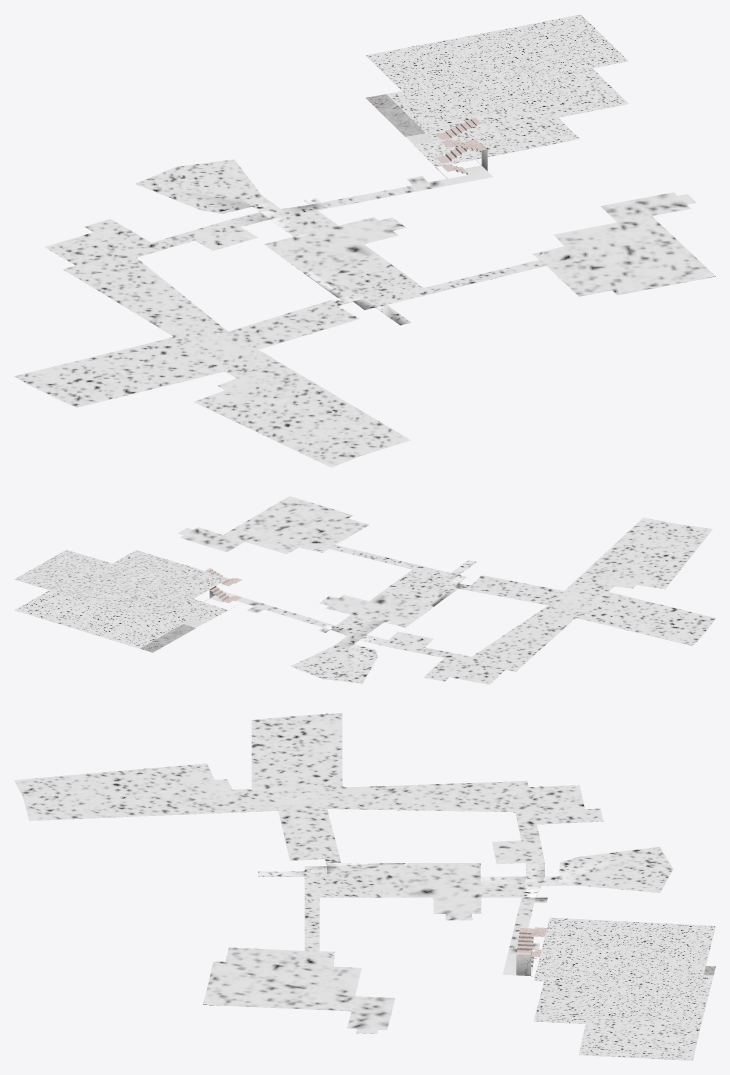
File: School floor.fbx
3 views of the same model, one above another, from view 1: azimuth 30°, elevation 25°; view 2: azimuth 150°, elevation 25°; view 3: azimuth 270°, elevation 25° (orthographic). The views are drawn at different scales.
Visible parts, largest first — view 1: School Floor; view 2: School Floor; view 3: School Floor.
Part boxes in pixels (x1,y1,x2,y2): School Floor: (14,14,715,467); School Floor: (14,496,715,684); School Floor: (14,713,715,1060).
Bounding box in the file's own units: 425 × 23.8 × 362.
Materials: 1 (1 with a texture image).
